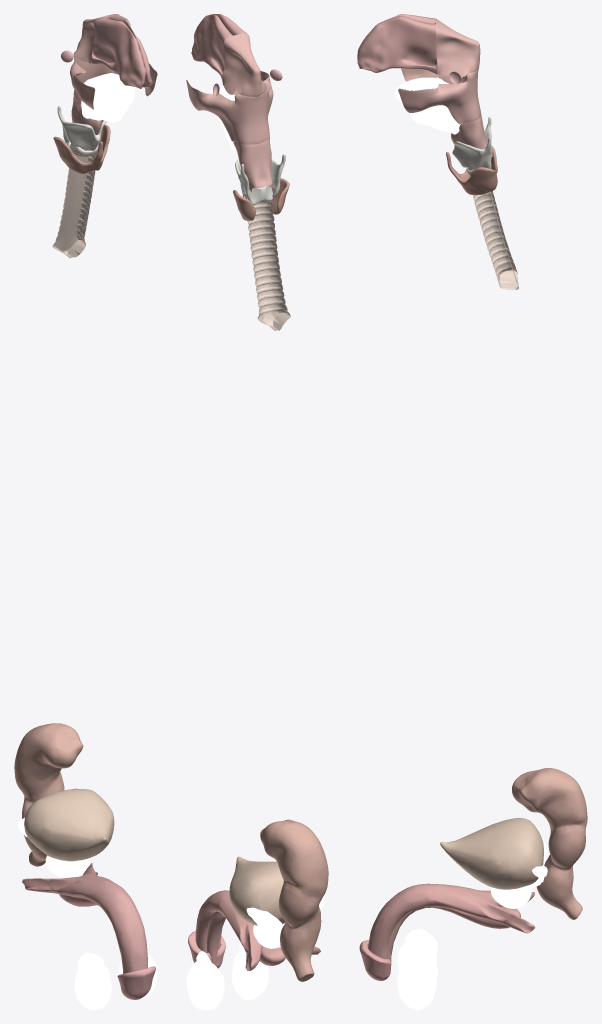
File: zanatomy-organs2.glb
The picture shows the model from 3 angles, left to right: view 1: azimuth 30°, elevation 25°; view 2: azimuth 210°, elevation 25°; view 3: azimuth 270°, elevation 25°; orthographic projection.
Visible parts, largest first — view 1: za2_urinary_bladder, bp_rectum, za2_corpus_cavernosum, za2_nasal_cavity, za2_trachea, za2_pharynx, za2_tongue, za2_testis_r, za2_thyroid_gland, za2_thyroid_cartilage, za2_glans_penis, za2_prostate; view 2: bp_rectum, za2_pharynx, za2_trachea, za2_urinary_bladder, za2_corpus_cavernosum, za2_nasal_cavity, za2_testis_l, za2_testis_r, za2_corpus_spongiosum, za2_thyroid_gland, za2_thyroid_cartilage, za2_seminal_gland_l (+4 smaller); view 3: bp_rectum, za2_pharynx, za2_urinary_bladder, za2_corpus_cavernosum, za2_nasal_cavity, za2_trachea, za2_testis_l, za2_tongue, za2_thyroid_gland, za2_thyroid_cartilage, za2_corpus_spongiosum, za2_glans_penis (+1 smaller).
Boxes of the visible parts, bbox=[...] form: za2_urinary_bladder: bbox=[24, 788, 114, 861]; bp_rectum: bbox=[14, 723, 83, 866]; za2_corpus_cavernosum: bbox=[22, 863, 147, 973]; za2_nasal_cavity: bbox=[91, 14, 152, 88]; za2_trachea: bbox=[52, 152, 97, 258]; za2_pharynx: bbox=[70, 15, 157, 156]; za2_tongue: bbox=[81, 73, 135, 122]; za2_testis_r: bbox=[74, 964, 111, 1009]; za2_thyroid_gland: bbox=[53, 125, 110, 173]; za2_thyroid_cartilage: bbox=[57, 106, 106, 150]; za2_glans_penis: bbox=[117, 966, 155, 999]; za2_prostate: bbox=[45, 855, 90, 878]; bp_rectum: bbox=[260, 819, 328, 981]; za2_pharynx: bbox=[186, 33, 273, 192]; za2_trachea: bbox=[247, 201, 290, 331]; za2_urinary_bladder: bbox=[229, 856, 286, 925]; za2_corpus_cavernosum: bbox=[195, 890, 320, 970]; za2_nasal_cavity: bbox=[191, 14, 246, 81]; za2_testis_l: bbox=[186, 961, 224, 1009]; za2_testis_r: bbox=[232, 950, 268, 1000]; za2_corpus_spongiosum: bbox=[206, 911, 285, 965]; za2_thyroid_gland: bbox=[233, 178, 289, 220]; za2_thyroid_cartilage: bbox=[235, 154, 285, 201]; za2_seminal_gland_l: bbox=[246, 907, 281, 931]; bp_rectum: bbox=[512, 768, 587, 919]; za2_pharynx: bbox=[398, 19, 492, 170]; za2_urinary_bladder: bbox=[440, 818, 543, 889]; za2_corpus_cavernosum: bbox=[368, 883, 534, 959]; za2_nasal_cavity: bbox=[357, 14, 437, 74]; za2_trachea: bbox=[473, 191, 518, 289]; za2_testis_l: bbox=[397, 963, 436, 1009]; za2_tongue: bbox=[394, 77, 461, 134]; za2_thyroid_gland: bbox=[446, 145, 497, 195]; za2_thyroid_cartilage: bbox=[452, 116, 491, 169]; za2_corpus_spongiosum: bbox=[387, 906, 520, 973]; za2_glans_penis: bbox=[359, 940, 391, 980].
Bounding box in the file's own units: 0.0745 × 0.8693 × 0.1846.
